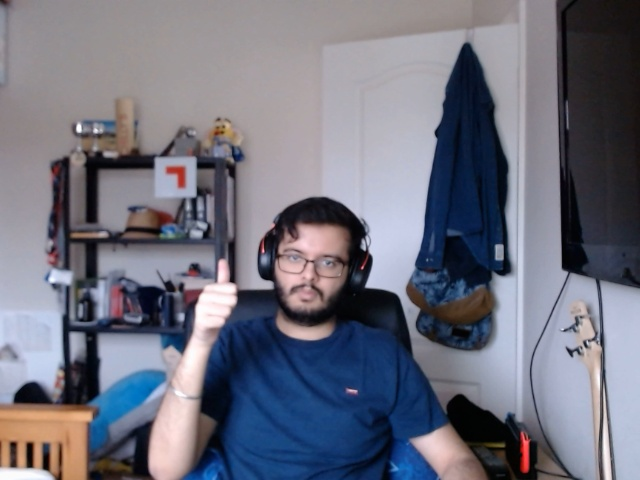Thumbs up: (188, 254, 245, 340)
